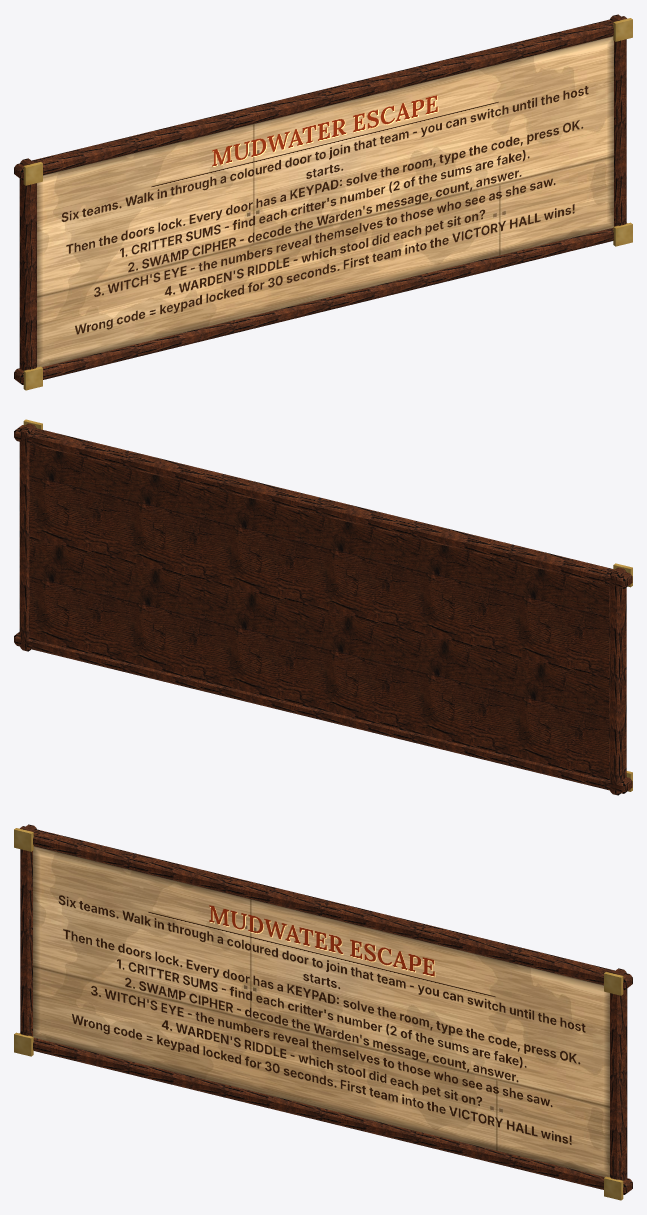
The model's file is sg_escape_rules.glb.
3 renders of one model, top to bottom at view 1: azimuth 30°, elevation 25°; view 2: azimuth 150°, elevation 25°; view 3: azimuth 330°, elevation 25°, orthographic.
Visible parts, largest first — view 1: spire; view 2: spire; view 3: spire.
Boxes of the visible parts, x1,y1,x2,y2 form: spire: (14, 14, 632, 390); spire: (14, 419, 632, 795); spire: (14, 824, 632, 1200).
Bounding box in the file's own units: 6.36 × 2.21 × 0.19.
Materials: 3 (3 with a texture image).
